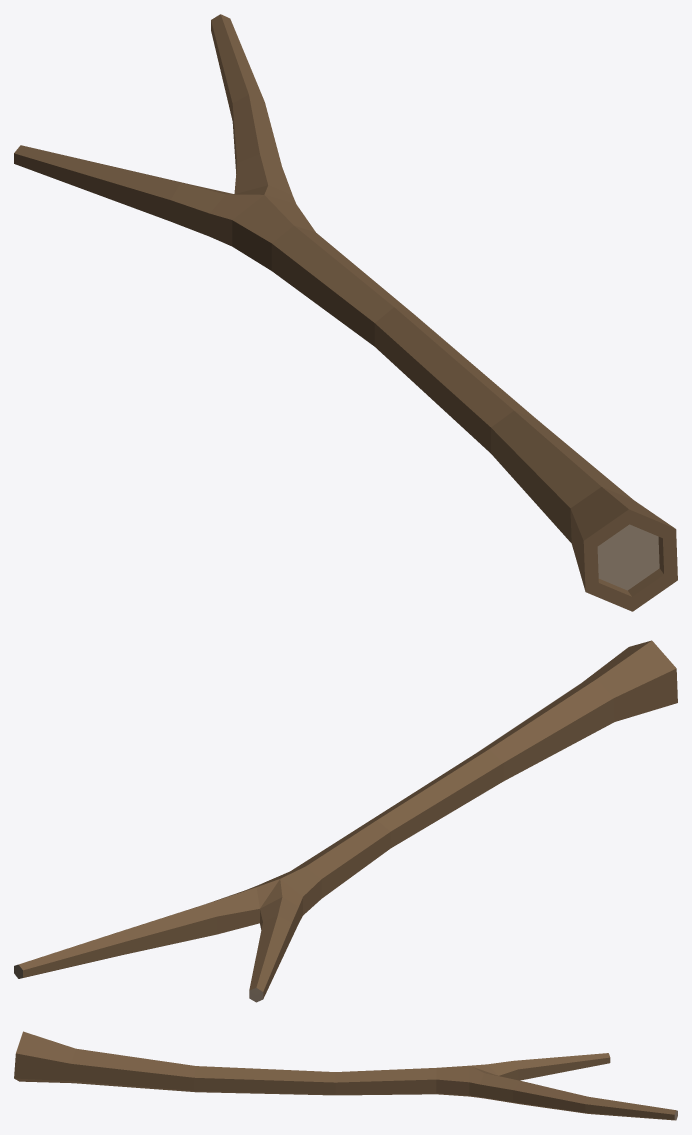
File: NHP_Branch_A1_02.fbx
3 renders of one model, top to bottom at view 1: azimuth 30°, elevation 25°; view 2: azimuth 150°, elevation 25°; view 3: azimuth 270°, elevation 25°, orthographic. The views are drawn at different scales.
Visible parts, largest first — view 1: NHP_Branch_A1_02; view 2: NHP_Branch_A1_02; view 3: NHP_Branch_A1_02.
Boxes of the visible parts, box(x1,y1,x2,y2) form: NHP_Branch_A1_02: box(14, 14, 677, 611); NHP_Branch_A1_02: box(14, 640, 677, 1002); NHP_Branch_A1_02: box(14, 1031, 677, 1120).
Bounding box in the file's own units: 0.2976 × 0.0982 × 1.18.
